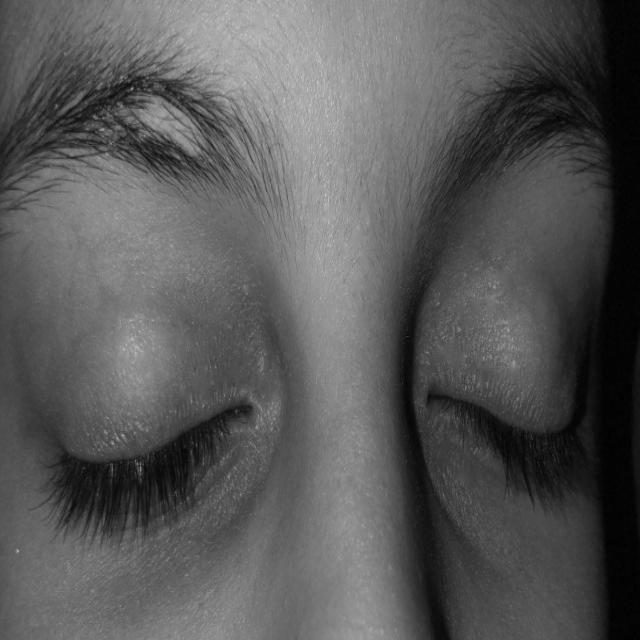real: (18, 206, 602, 577)
